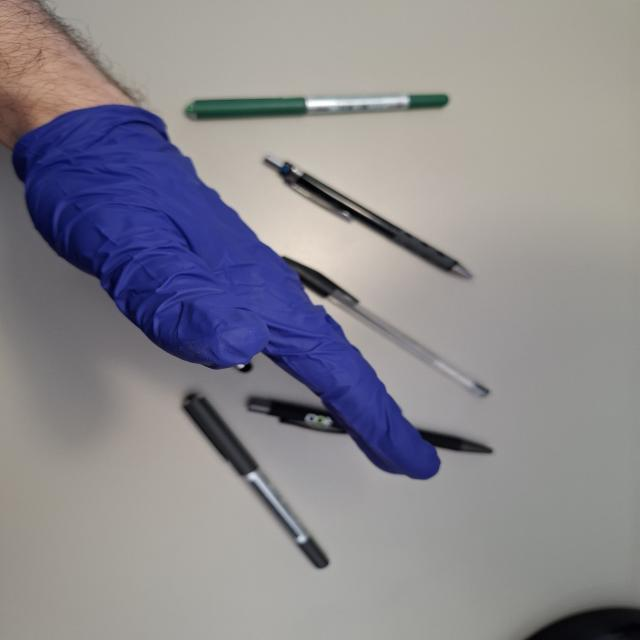glove_on: (9, 102, 444, 482)
